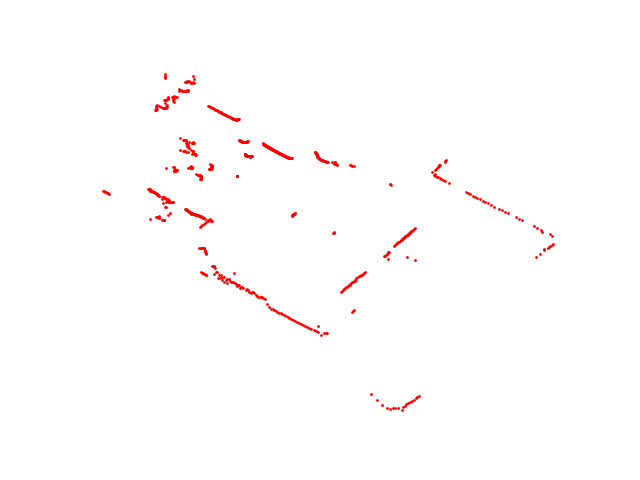person: (194, 162, 215, 182), (237, 138, 256, 159)
